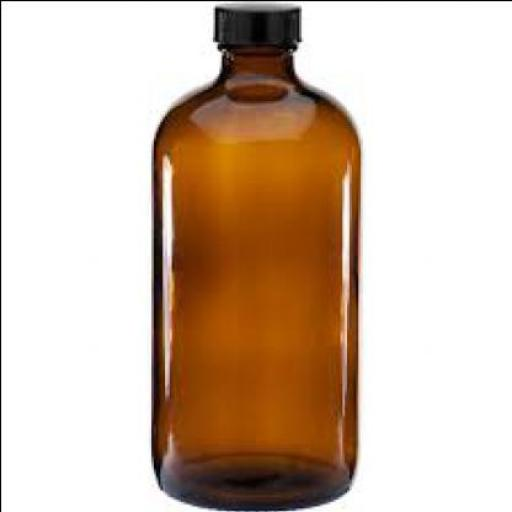glass: (150, 43, 355, 506)
plastic: (211, 1, 299, 48)
